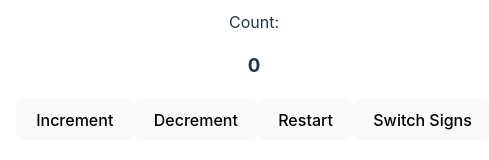
it: Counter › counter should increment by 1 if the increment button is clicked
Expected: the heading with test id "count" reads "0", [248,54,260,77]
Step 1. Click the button "Increment" → (75, 120), box [16,99,134,140]
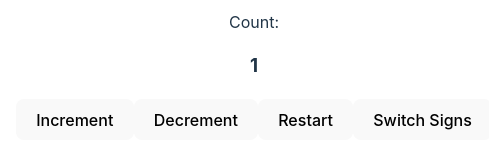
Expected: the heading with test id "count" reads "1", [250,54,258,77]
